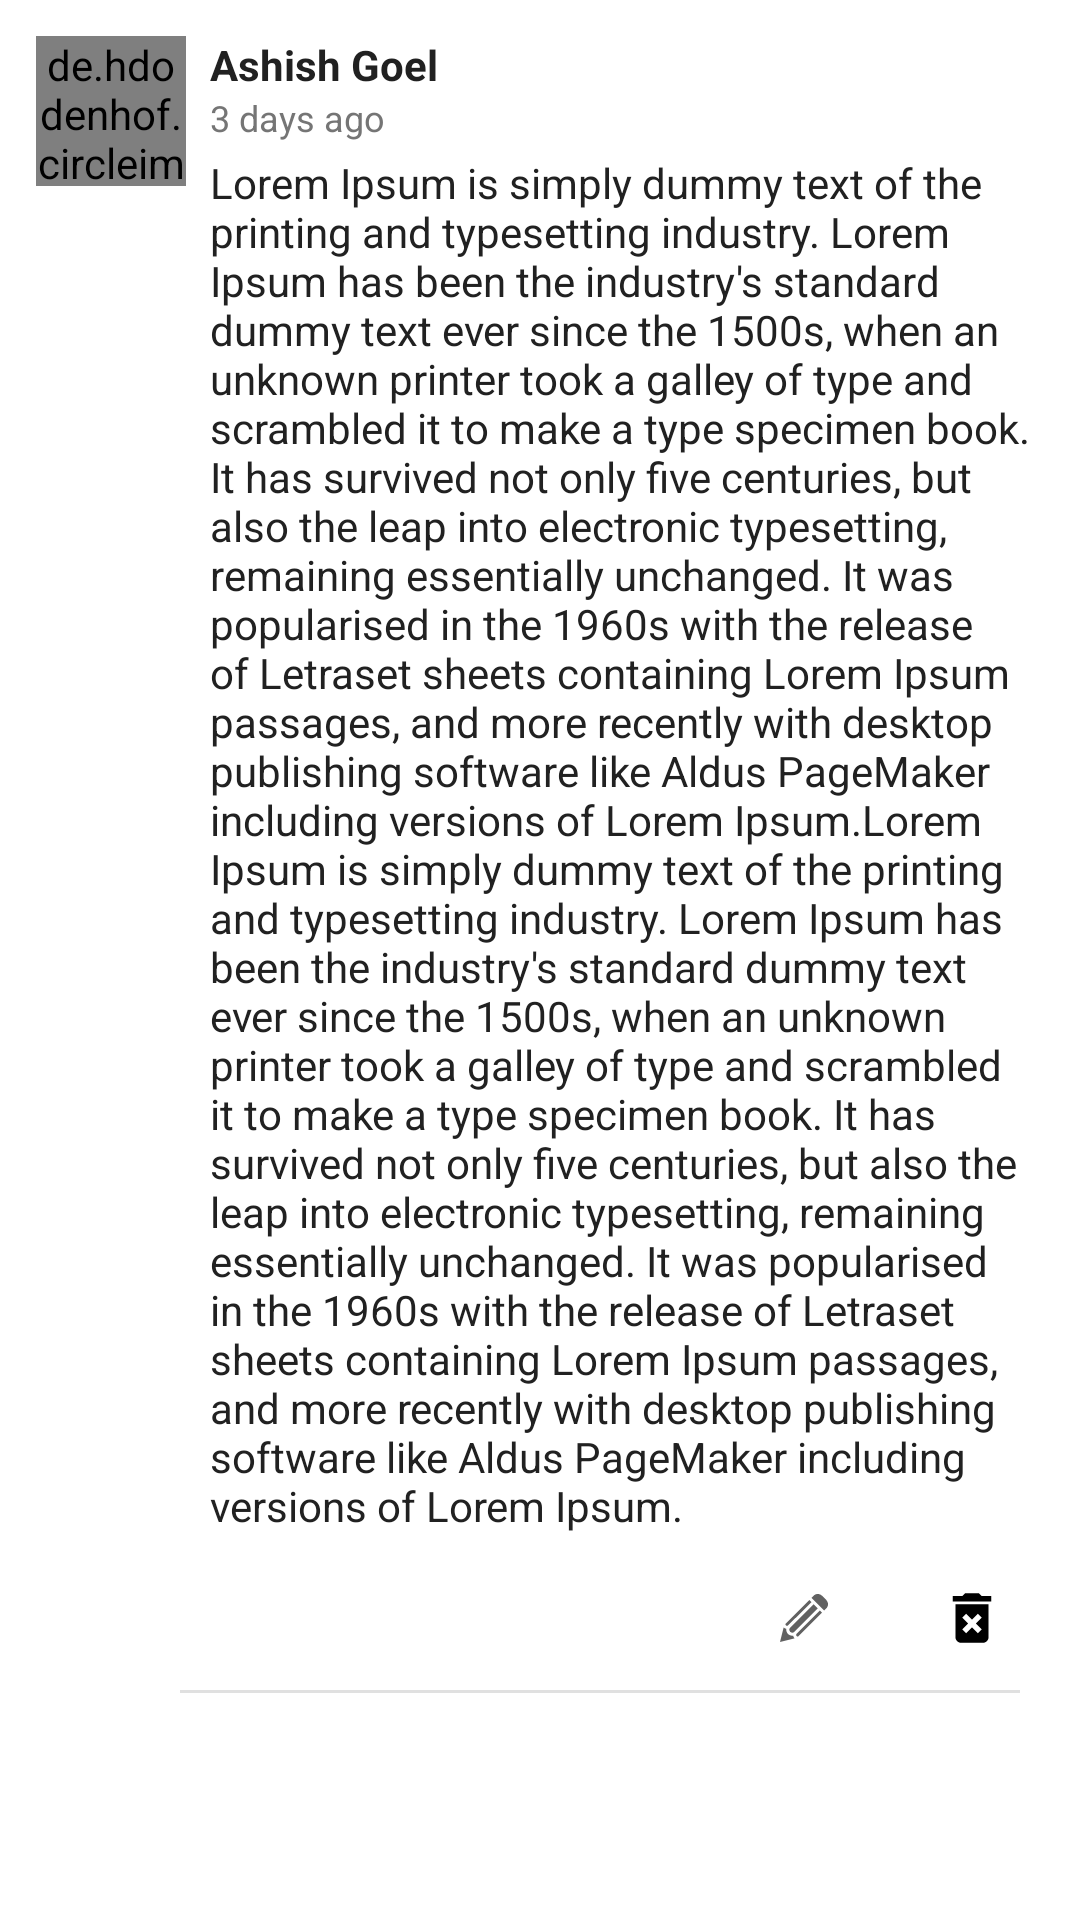

Screen size 1080w x 1920h. Icon name, then its center in pixels as (x,y):
delete bin: (972,1618)
edit pencil: (804,1618)
